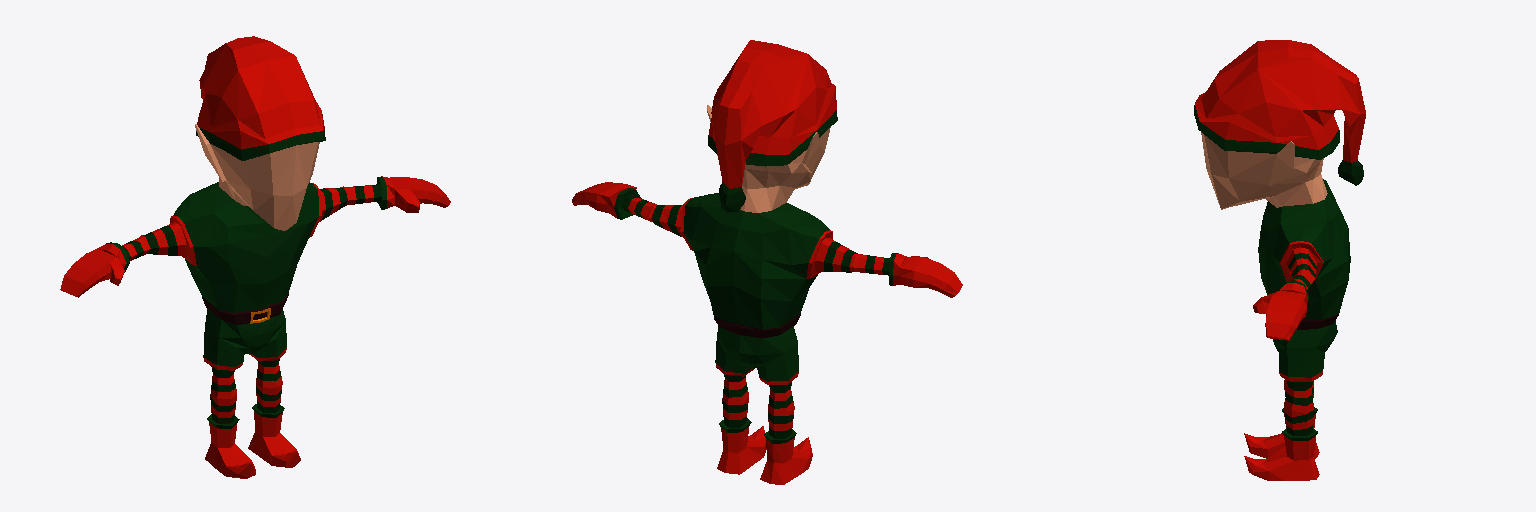
Rendered from char_ELF_3.obj.
3 views of the same model, side by side, from view 1: azimuth 30°, elevation 25°; view 2: azimuth 150°, elevation 25°; view 3: azimuth 270°, elevation 25° (orthographic).
Parts seen in each view (by area): view 1: Cube; view 2: Cube; view 3: Cube.
Part boxes in pixels (x1,y1,x2,y2): Cube: (60,36,450,478); Cube: (572,40,962,484); Cube: (1194,40,1365,480).
Bounding box in the file's own units: 2.88 × 2.96 × 1.11.